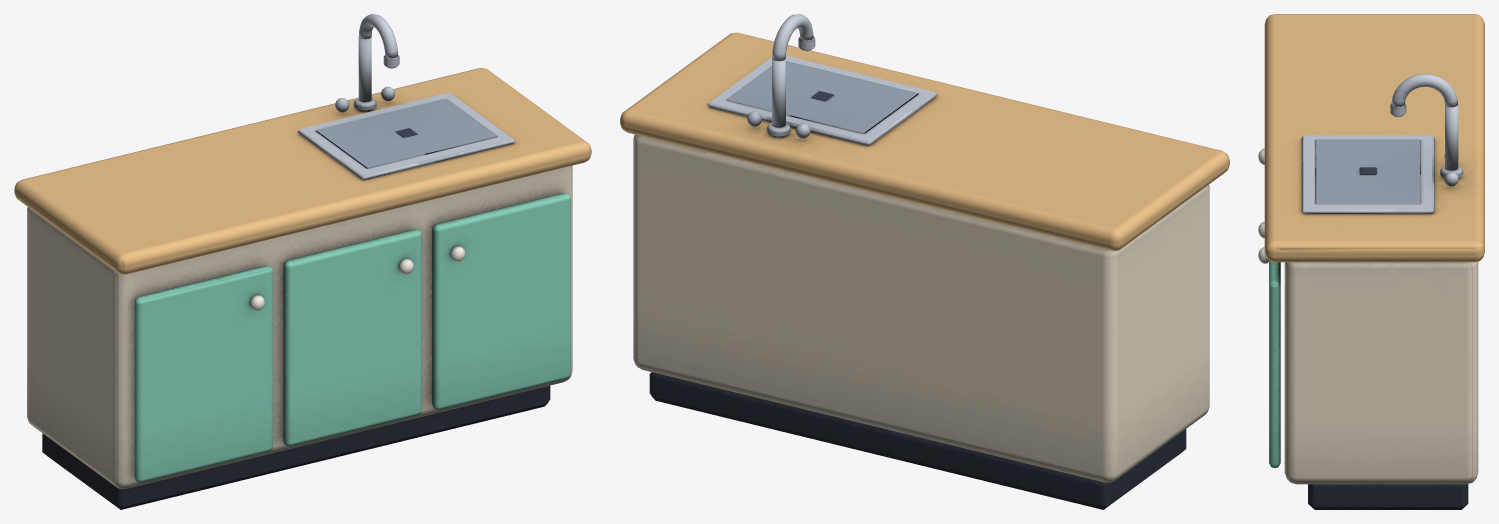
Rendered from kitchen_counter.glb.
3 views of the same model, side by side, from view 1: azimuth 30°, elevation 25°; view 2: azimuth 150°, elevation 25°; view 3: azimuth 270°, elevation 25° (orthographic). The views are drawn at different scales.
Visible parts, largest first — view 1: kitchen_counter; view 2: kitchen_counter; view 3: kitchen_counter.
Part boxes in pixels (x1,y1,x2,y2): kitchen_counter: (14,14,591,509); kitchen_counter: (620,14,1229,509); kitchen_counter: (1258,14,1484,509).
Size of the model in its own units: 1.66 by 1.26 by 0.68.
7 materials, 7 textured.
